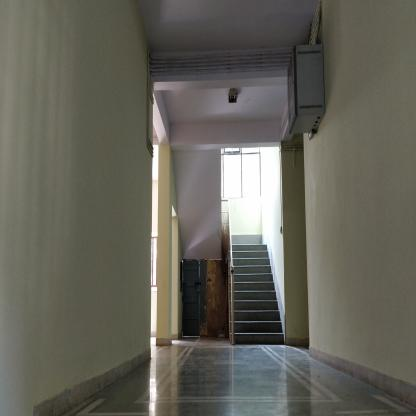stairs: (237, 242, 268, 349)
